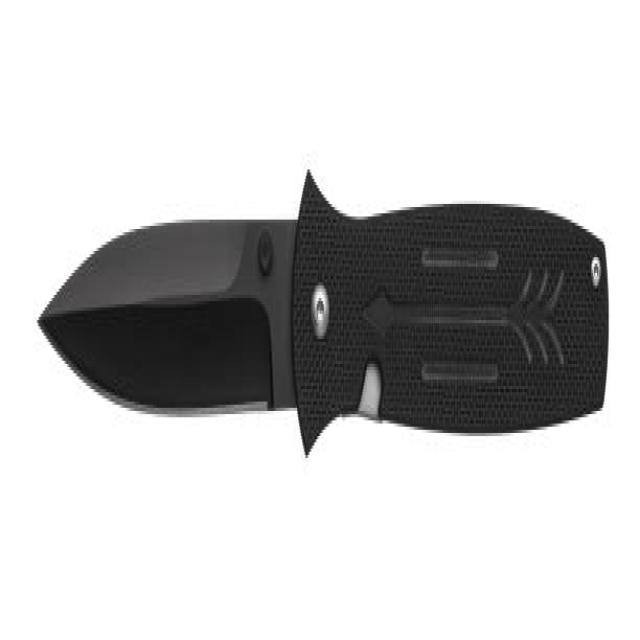knife: (32, 144, 616, 516)
